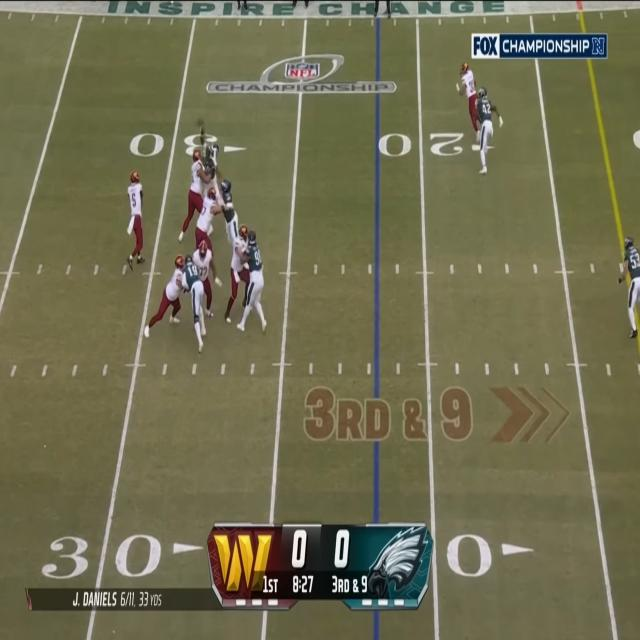Ball: (195, 108, 207, 134)
